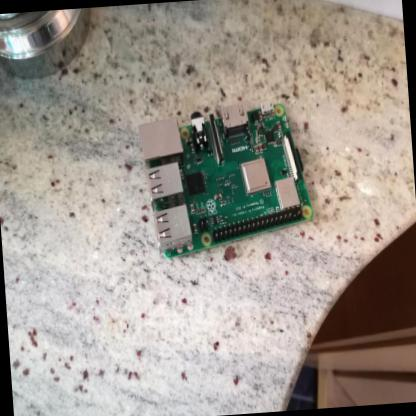Raspberry_Pi_3: (132, 97, 322, 263)
